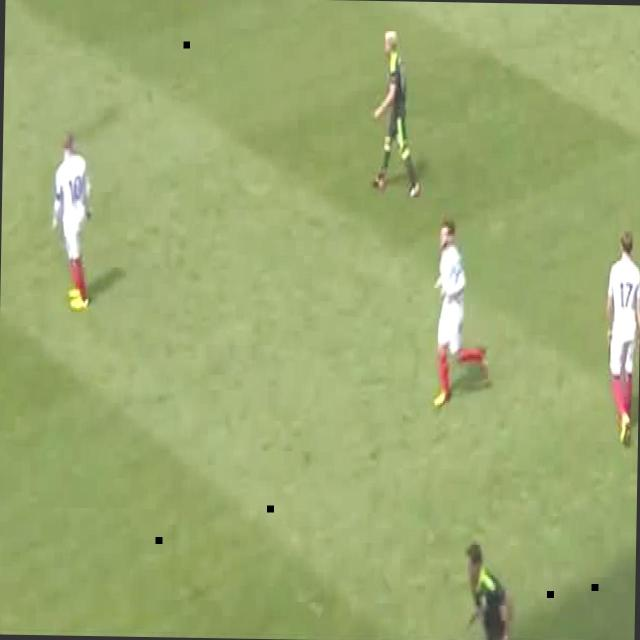player-white: (434, 222, 490, 408), (373, 30, 424, 200), (52, 130, 96, 312), (604, 230, 640, 448), (464, 540, 512, 640)
